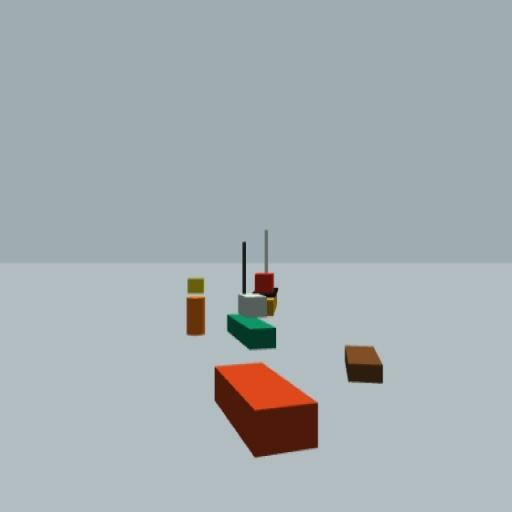buoy: (186, 277, 207, 338)
debris_container: (214, 360, 318, 459), (342, 343, 384, 384)
fishing_boat: (227, 239, 278, 352)
